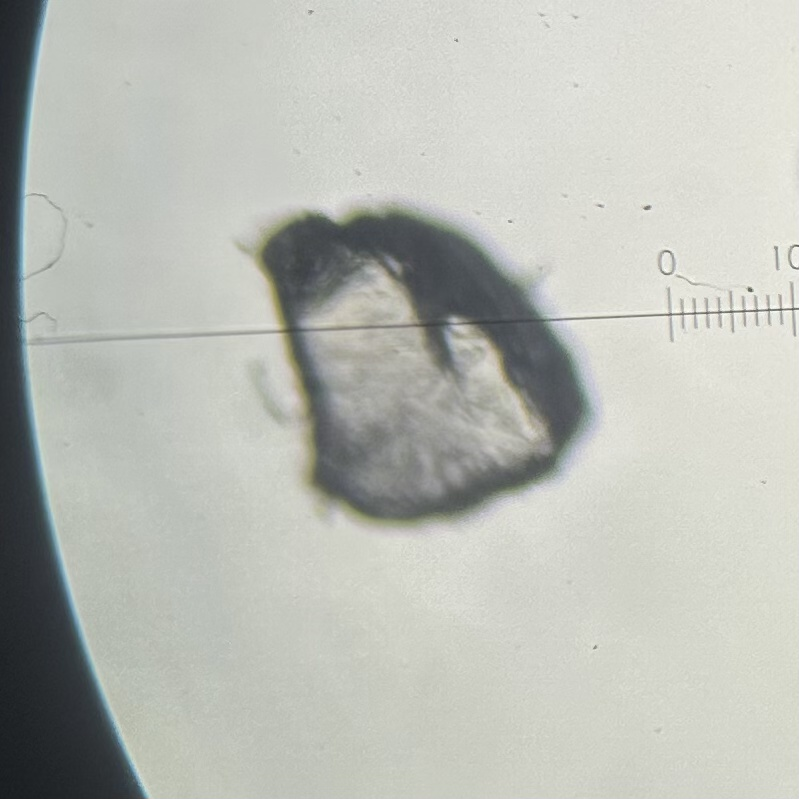microplastic: (228, 208, 593, 525)
